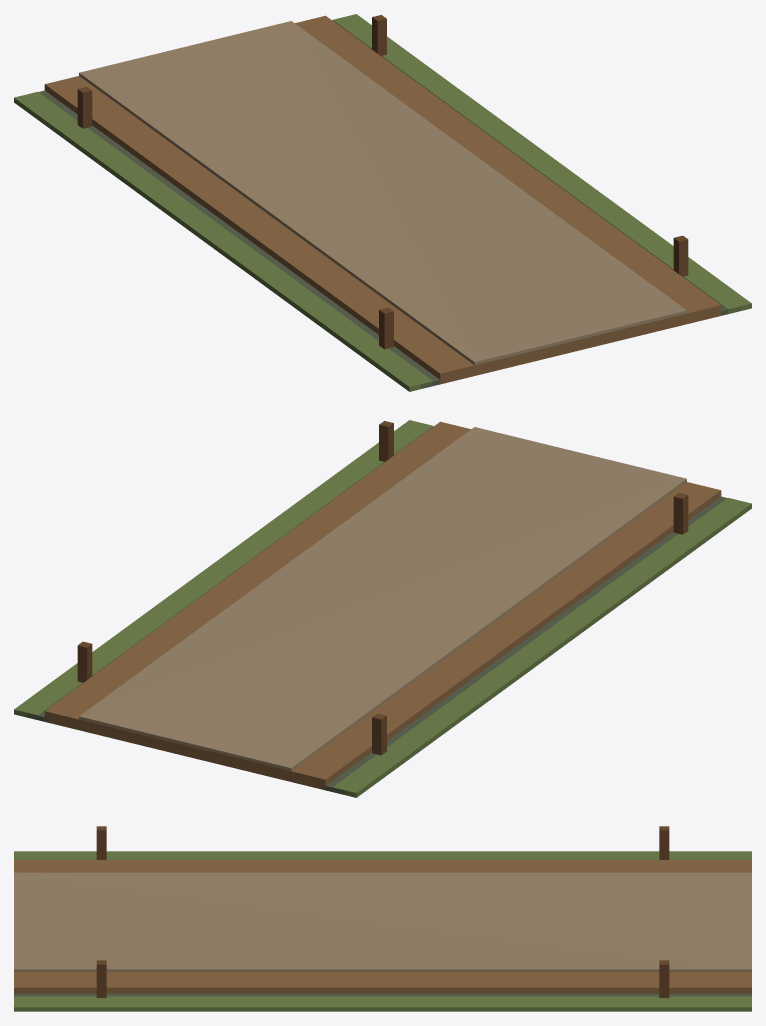
Rendered from Farm-Road.glb.
The picture shows the model from 3 angles, top to bottom: view 1: azimuth 30°, elevation 25°; view 2: azimuth 150°, elevation 25°; view 3: azimuth 270°, elevation 25°; orthographic projection. The views are drawn at different scales.
Visible parts, largest first — view 1: farm-road-static-farm-road-mixed-gravel, farm-road-static-farm-road-compacted-earth, farm-road-static-farm-road-ditch-grass, farm-road-static-farm-road-shallow-ditch, farm-road-static-farm-road-timber-markers; view 2: farm-road-static-farm-road-mixed-gravel, farm-road-static-farm-road-compacted-earth, farm-road-static-farm-road-ditch-grass, farm-road-static-farm-road-shallow-ditch, farm-road-static-farm-road-timber-markers; view 3: farm-road-static-farm-road-mixed-gravel, farm-road-static-farm-road-compacted-earth, farm-road-static-farm-road-ditch-grass, farm-road-static-farm-road-shallow-ditch, farm-road-static-farm-road-timber-markers.
Boxes of the visible parts, x1,y1,x2,y2 form: farm-road-static-farm-road-mixed-gravel: (79,21,686,365); farm-road-static-farm-road-compacted-earth: (44,15,721,384); farm-road-static-farm-road-ditch-grass: (14,14,751,391); farm-road-static-farm-road-shallow-ditch: (39,20,739,388); farm-road-static-farm-road-timber-markers: (77,15,688,349); farm-road-static-farm-road-mixed-gravel: (79,427,686,771); farm-road-static-farm-road-compacted-earth: (44,421,721,790); farm-road-static-farm-road-ditch-grass: (14,420,751,797); farm-road-static-farm-road-shallow-ditch: (26,426,726,794); farm-road-static-farm-road-timber-markers: (77,421,688,755); farm-road-static-farm-road-mixed-gravel: (14,872,751,971); farm-road-static-farm-road-compacted-earth: (14,860,751,993); farm-road-static-farm-road-ditch-grass: (14,851,751,1011); farm-road-static-farm-road-shallow-ditch: (14,993,751,996); farm-road-static-farm-road-timber-markers: (96,826,669,997).
Bounding box in the file's own units: 4 × 0.46 × 8.
